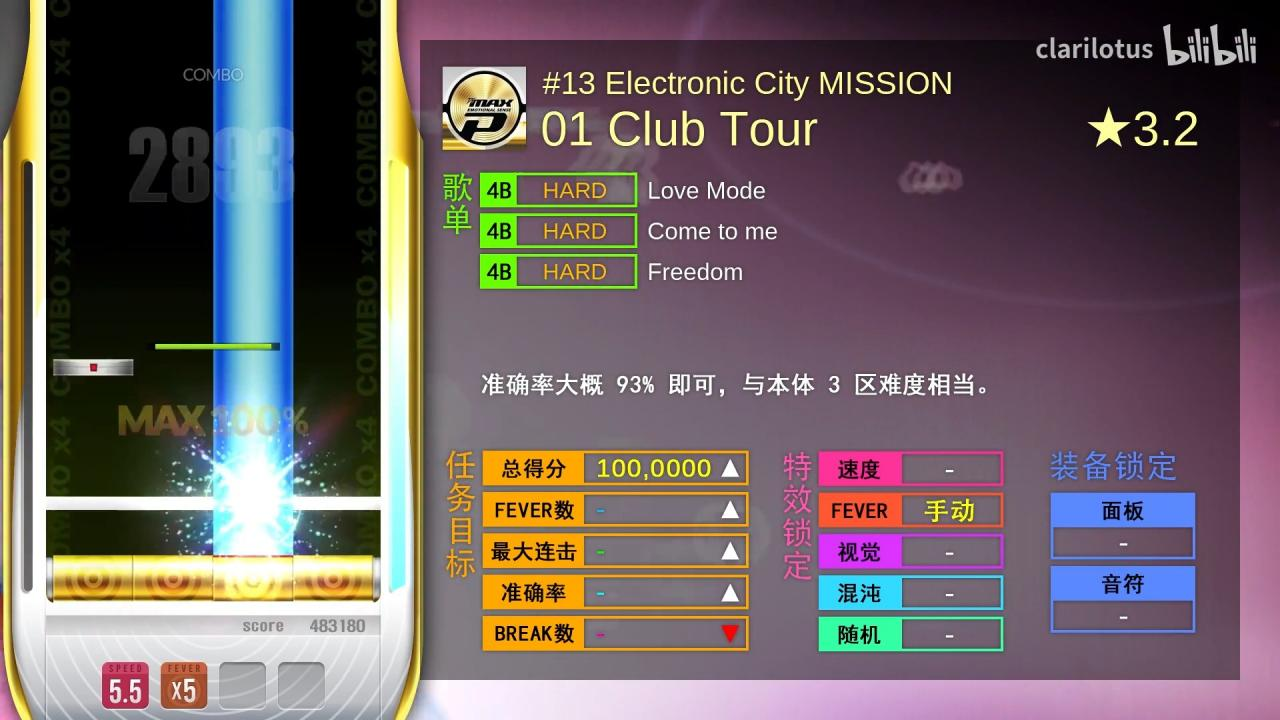note: (53, 358, 134, 376)
